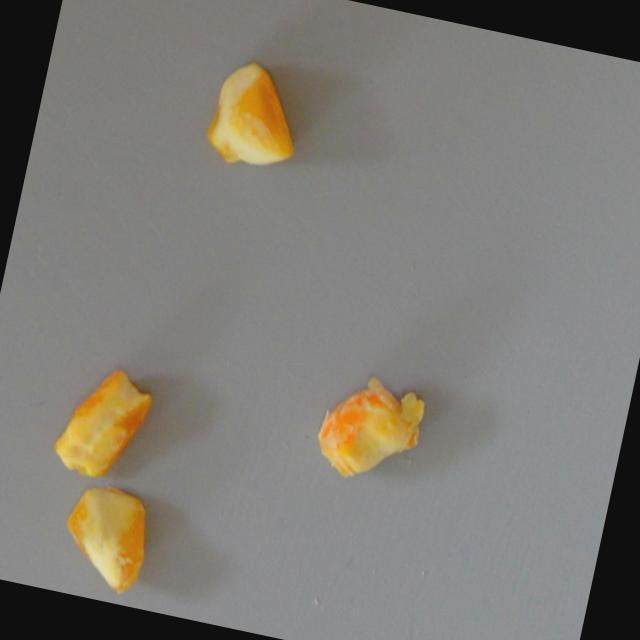pelicula: (306, 367, 433, 491), (199, 53, 312, 177), (49, 359, 158, 487), (52, 476, 162, 599)
